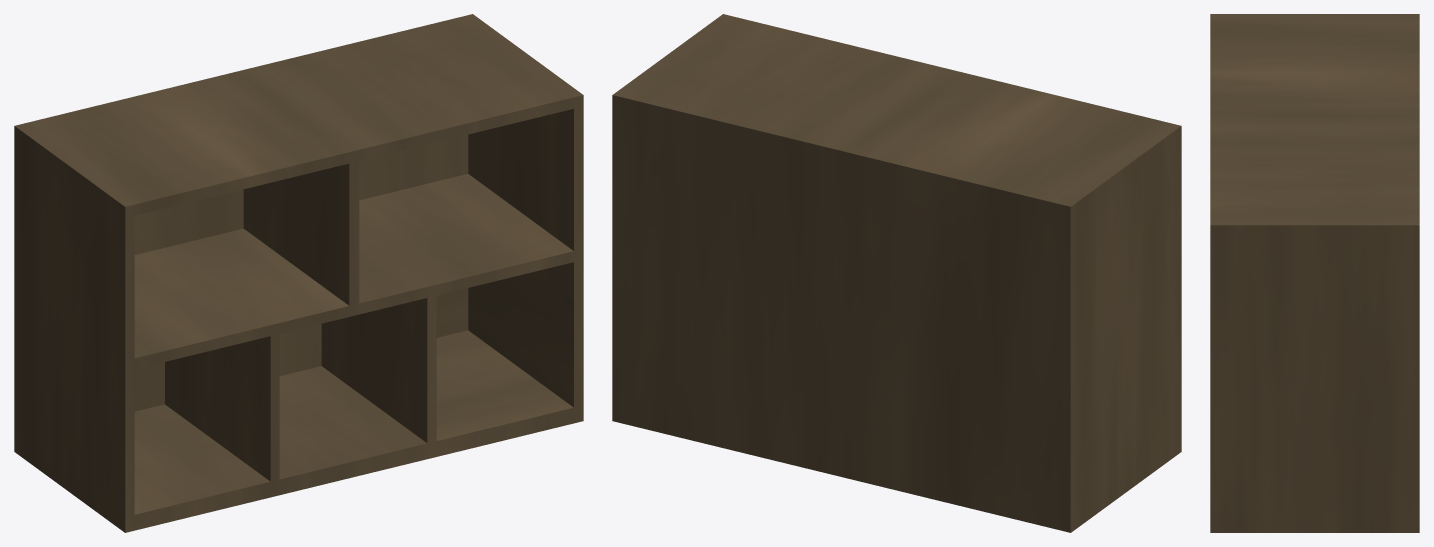
The model's file is Cabinet4.fbx.
3 views of the same model, side by side, from view 1: azimuth 30°, elevation 25°; view 2: azimuth 150°, elevation 25°; view 3: azimuth 270°, elevation 25° (orthographic). The views are drawn at different scales.
Visible parts, largest first — view 1: Cabinet4; view 2: Cabinet4; view 3: Cabinet4.
Part boxes in pixels (<box>): Cabinet4: <box>14,14,583,532</box>; Cabinet4: <box>612,14,1181,532</box>; Cabinet4: <box>1210,14,1419,532</box>.
Bounding box in the file's own units: 3.61 × 2.45 × 1.51.
1 material, 1 textured.
